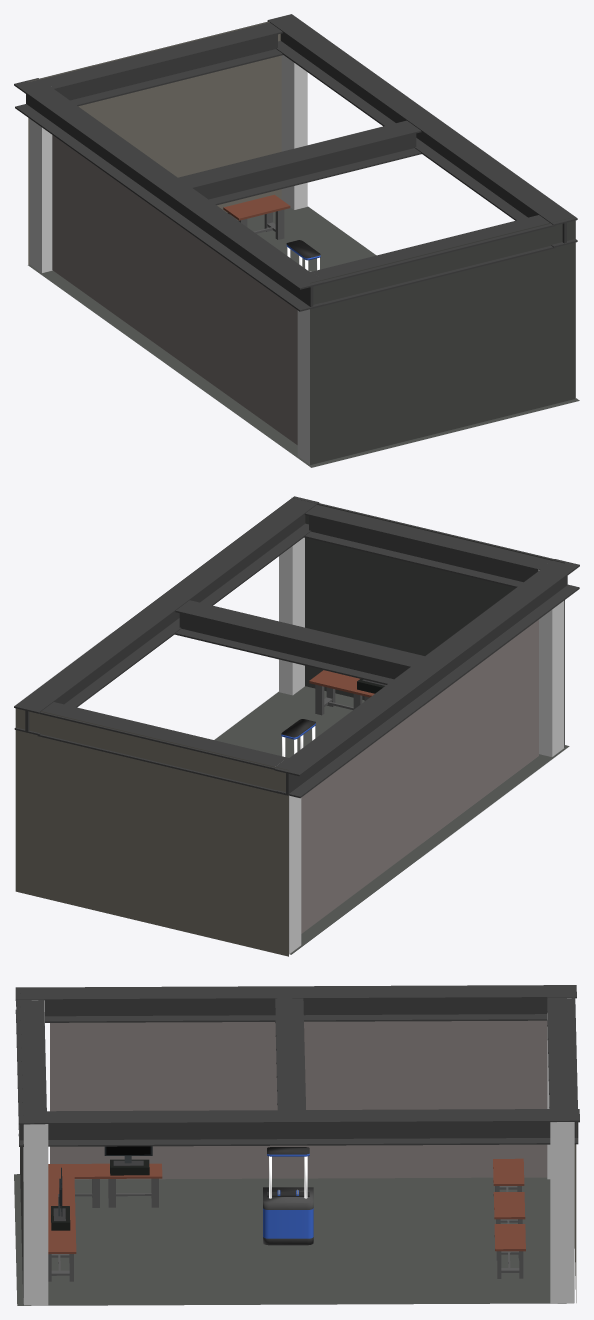
Rendered from escenario-flexion.gltf.
3 views of the same model, one above another, from view 1: azimuth 30°, elevation 25°; view 2: azimuth 150°, elevation 25°; view 3: azimuth 270°, elevation 25° (orthographic).
Parts seen in each view (by area): view 1: Vigas_Amarre, ParedFondo, ParedIzquierda.005, ParedDerecha, Piso, Columna3, Columna4, Columna2, Mesa.Lab3; view 2: ParedDerecha, Vigas_Amarre, ParedIzquierda.005, ParedFondo, Piso, Columna2, Columna1, Columna3, Mesa.Lab8; view 3: Piso, ParedIzquierda.005, Vigas_Amarre, Columna1, Columna4, Plane.003, Mesa.Lab3, Computador1, Mesa.Lab8, Mesa.Lab5, Mesa.Lab4, Mesa.Lab1 (+6 smaller).
Part boxes in pixels (box(x1,y1,x2,y2)): Vigas_Amarre: box(14, 14, 577, 311); ParedFondo: box(310, 216, 575, 464); ParedIzquierda.005: box(52, 135, 297, 444); ParedDerecha: box(28, 21, 281, 264); Piso: box(28, 206, 579, 467); Columna3: box(29, 119, 52, 272); Columna4: box(281, 55, 307, 209); Columna2: box(297, 271, 311, 464); Mesa.Lab3: box(223, 194, 290, 239); ParedDerecha: box(15, 708, 288, 956); Vigas_Amarre: box(14, 496, 579, 798); ParedIzquierda.005: box(301, 619, 538, 933); ParedFondo: box(293, 498, 564, 747); Piso: box(214, 686, 569, 954); Columna2: box(538, 569, 564, 756); Columna1: box(279, 537, 304, 695); Columna3: box(275, 766, 301, 954); Mesa.Lab8: box(309, 670, 367, 715); Piso: box(14, 1174, 573, 1305); ParedIzquierda.005: box(50, 1020, 547, 1179); Vigas_Amarre: box(15, 985, 579, 1146); Columna1: box(23, 1124, 48, 1305); Columna4: box(550, 1122, 574, 1303); Plane.003: box(263, 1187, 313, 1245); Mesa.Lab3: box(494, 1224, 525, 1278); Computador1: box(104, 1146, 152, 1175); Mesa.Lab8: box(48, 1226, 76, 1281); Mesa.Lab5: box(48, 1163, 102, 1207); Mesa.Lab4: box(103, 1163, 162, 1207); Mesa.Lab1: box(493, 1158, 524, 1191).
Bounding box in the file's own units: 10.6 × 6.51 × 18.2.
